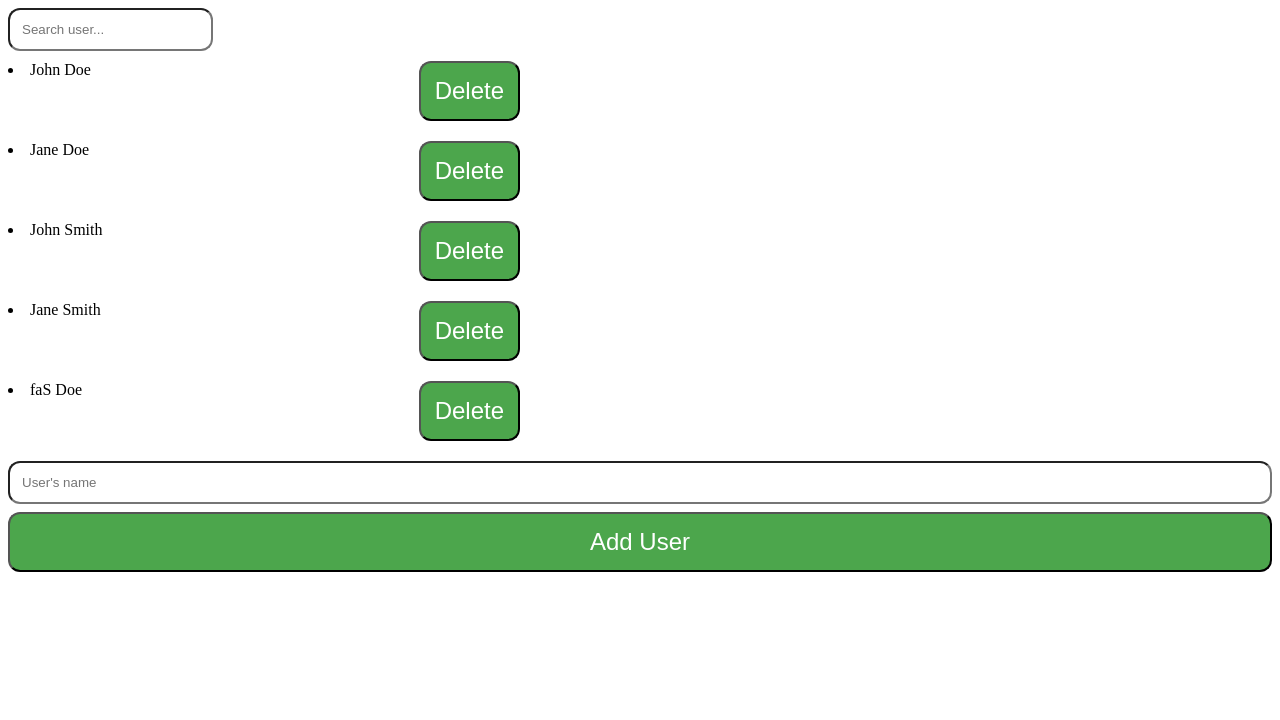
Functional test › addUserButton should increase numOfPeopleValue
This screenshot has width=1280, height=720.
Click the button "Add User".
click(640, 542)  # box [8,512,1272,572]
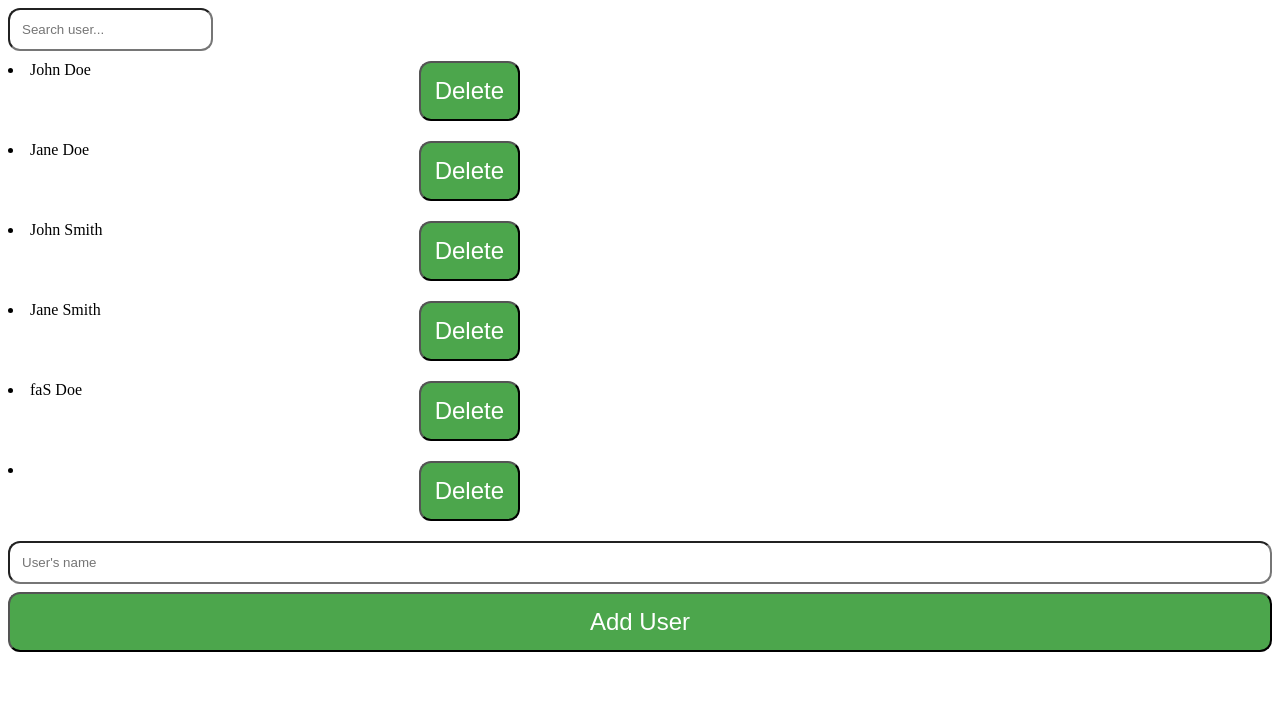
Expected: the number of list items is 6, [30,61,91,78]; [30,141,89,158]; [30,221,102,238]; [30,301,101,318]; [30,381,82,398]; [8,461,30,521]
